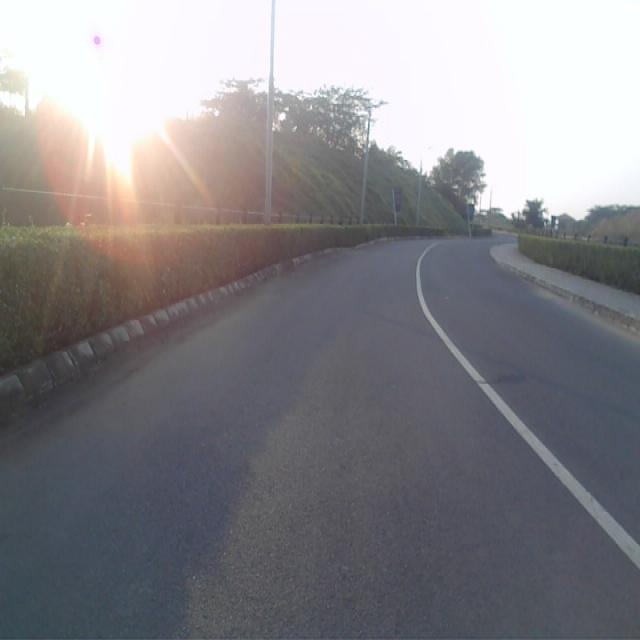lane: (0, 242, 640, 640)
